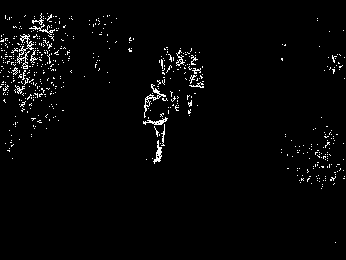person: (142, 80, 170, 166)
